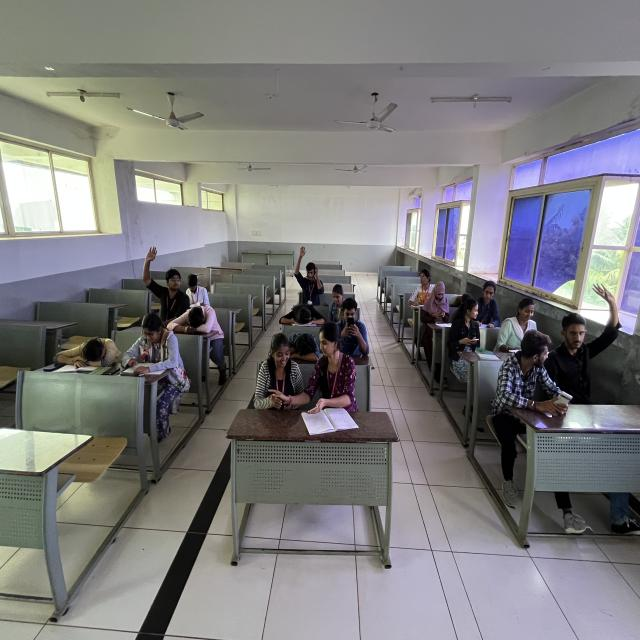Hand Rising: (559, 276, 624, 375), (138, 237, 192, 321), (288, 239, 328, 304)
Reading: (117, 304, 197, 388)
Sleeping: (49, 330, 127, 378), (164, 301, 235, 347), (278, 326, 329, 368), (272, 300, 331, 334)
Using Phone: (491, 326, 572, 425), (332, 298, 380, 364), (450, 294, 490, 369), (418, 282, 456, 333)
Writing: (467, 275, 507, 334)
